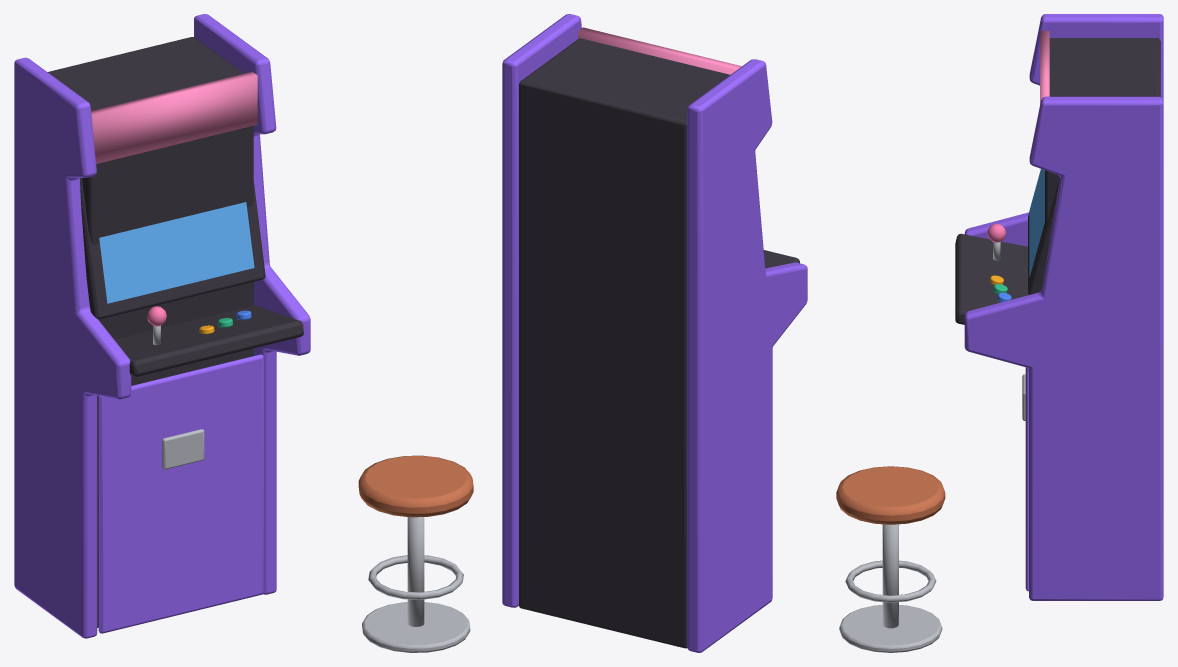
The model's file is arcade_l2.glb.
3 renders of one model, left to right at view 1: azimuth 30°, elevation 25°; view 2: azimuth 150°, elevation 25°; view 3: azimuth 270°, elevation 25°, orthographic. The views are drawn at different scales.
Visible parts, largest first — view 1: arcade_l2, arcade_screen, a__marquee; view 2: arcade_l2, a__marquee; view 3: arcade_l2, arcade_screen, a__marquee.
Boxes of the visible parts, <box> form: arcade_l2: <box>14,14,473,652</box>; arcade_screen: <box>99,202,254,303</box>; a__marquee: <box>91,71,257,163</box>; arcade_l2: <box>502,14,807,652</box>; a__marquee: <box>578,27,741,74</box>; arcade_l2: <box>836,14,1163,652</box>; arcade_screen: <box>1029,169,1044,277</box>; a__marquee: <box>1040,31,1049,104</box>.
Bounding box in the file's own units: 1.05 × 1.72 × 1.02.
